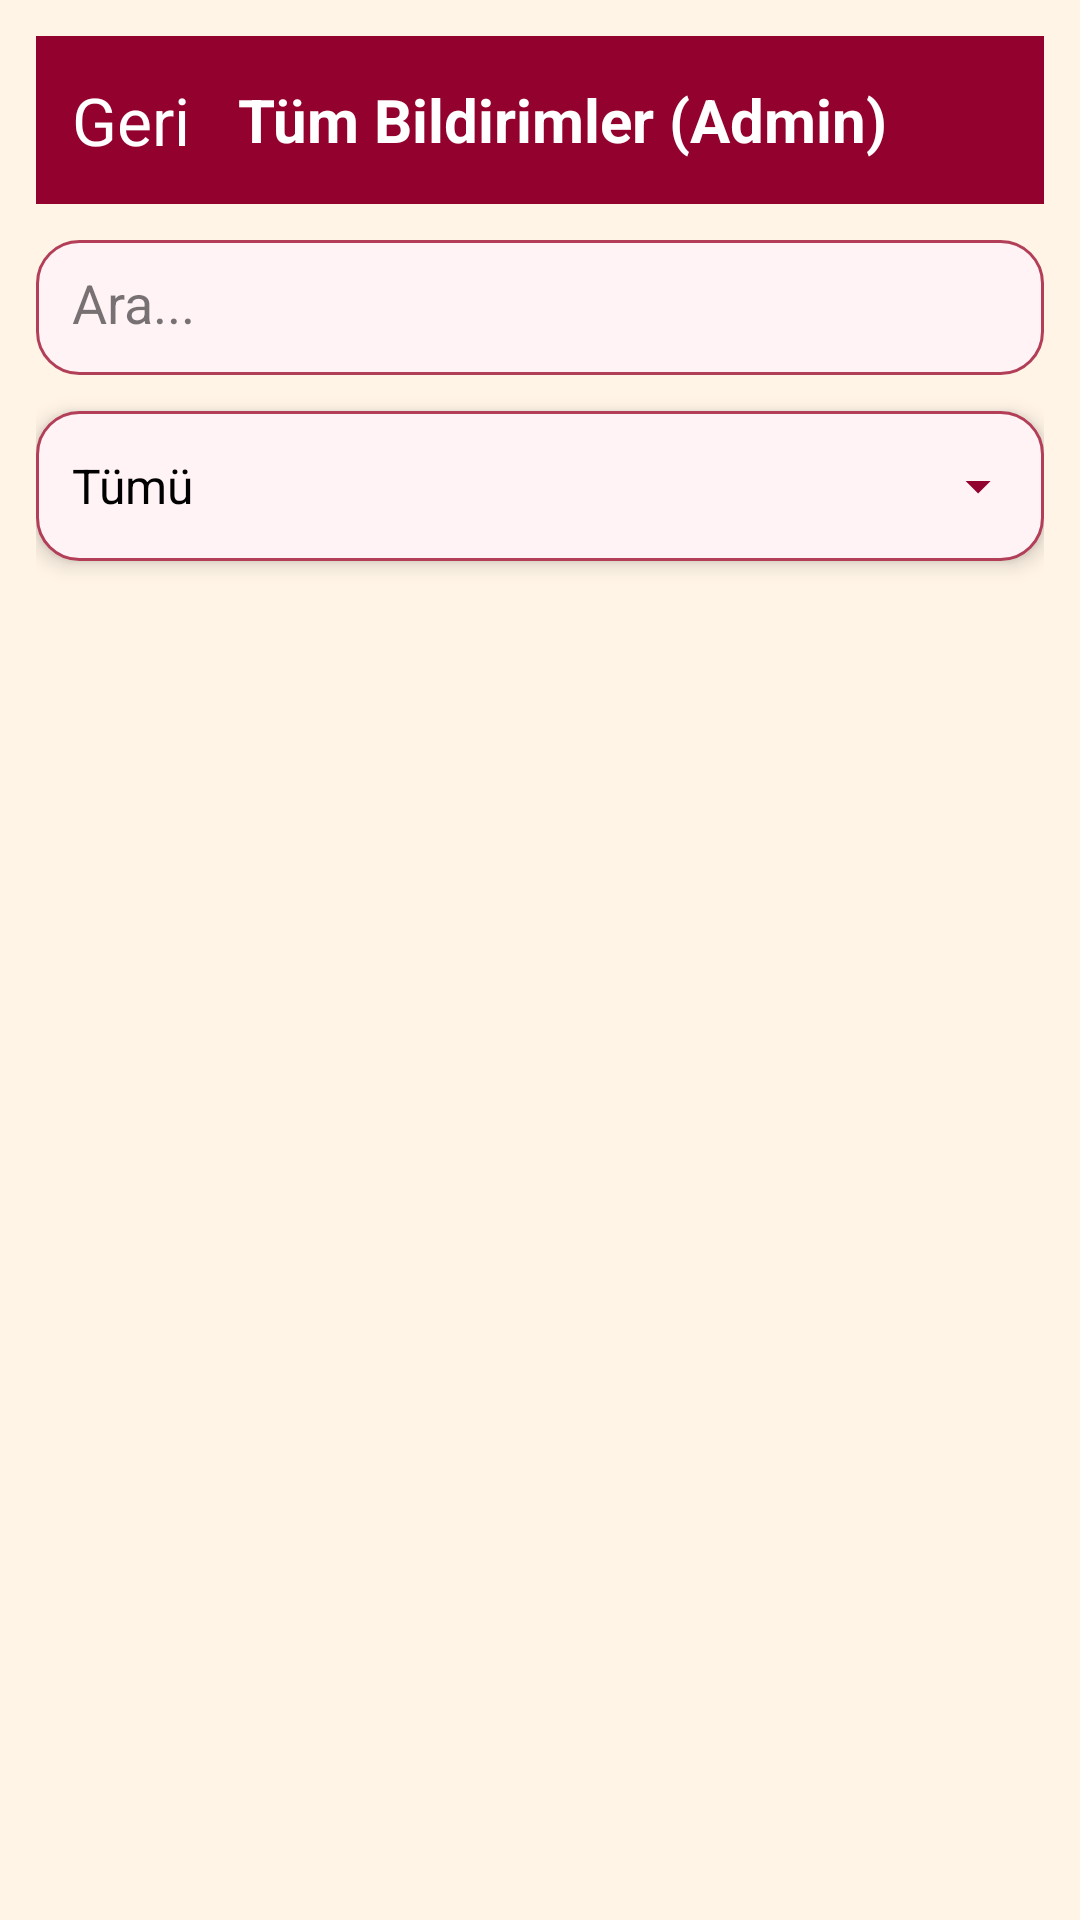

Named icons in this screenshot (1080px x 1920px) and their centers, (x=x, y=y):
arrow down: (x=978, y=487)
